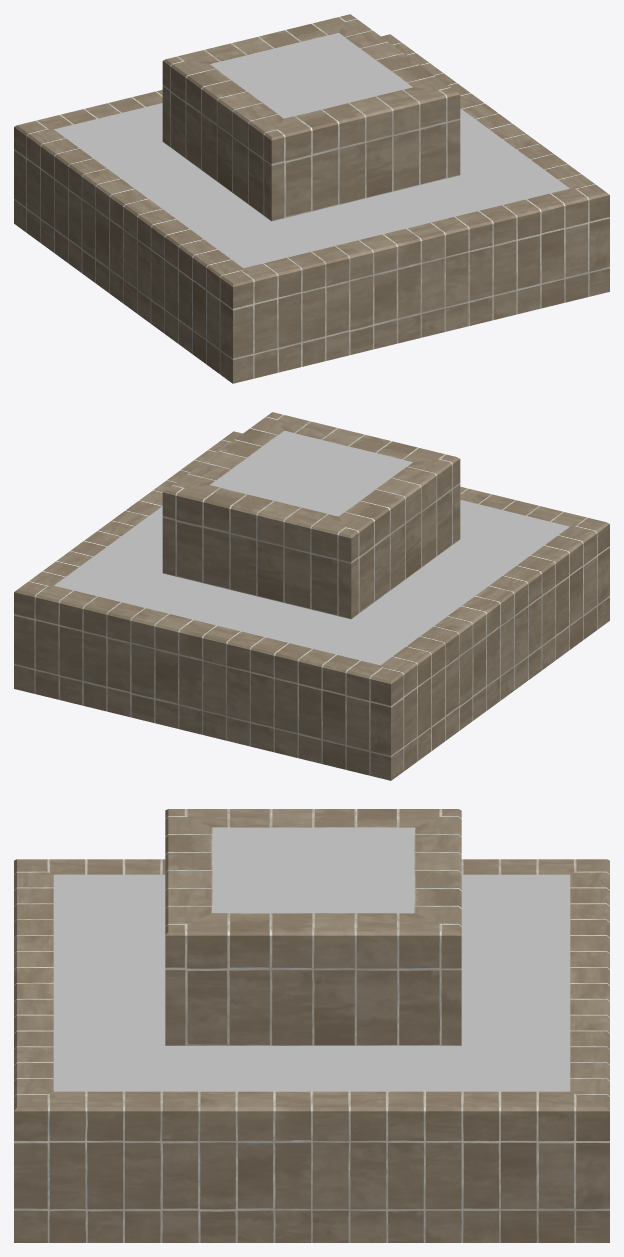
The model's file is MediumPlatform.fbx.
3 renders of one model, top to bottom at view 1: azimuth 30°, elevation 25°; view 2: azimuth 150°, elevation 25°; view 3: azimuth 270°, elevation 25°, orthographic. The views are drawn at different scales.
Visible parts, largest first — view 1: MediumPlatform, Block; view 2: MediumPlatform, Block; view 3: MediumPlatform, Block.
Boxes of the visible parts, x1,y1,x2,y2 form: MediumPlatform: [14, 34, 609, 383]; Block: [162, 14, 460, 221]; MediumPlatform: [14, 431, 609, 780]; Block: [162, 412, 460, 619]; MediumPlatform: [14, 859, 609, 1242]; Block: [165, 809, 461, 1045].
Size of the model in its own units: 400 by 184 by 402.
